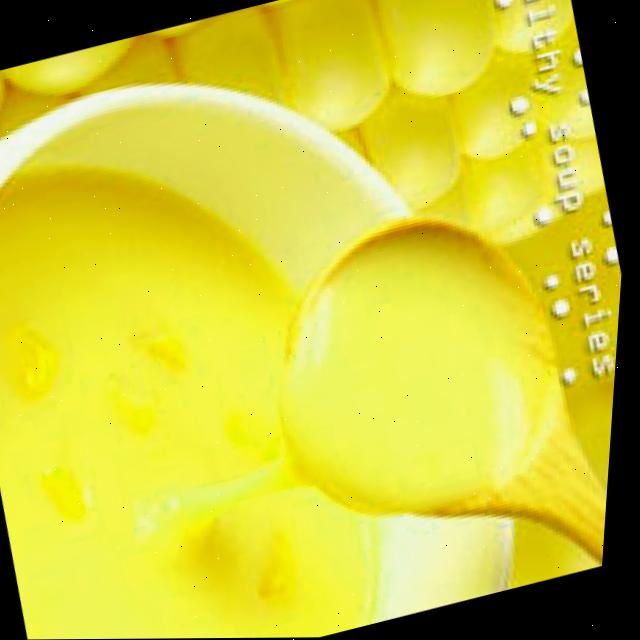汤锅炖物: (0, 54, 359, 640)
